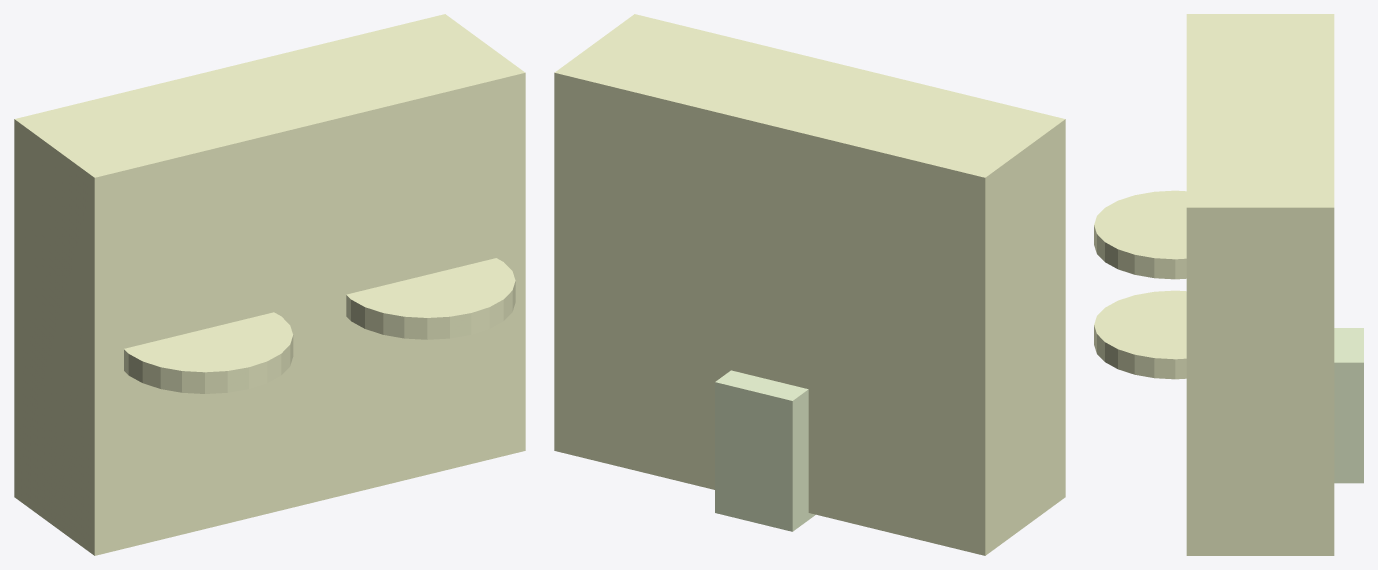
File: signal_warning_dual_amber_box.glb
The picture shows the model from 3 angles, left to right: view 1: azimuth 30°, elevation 25°; view 2: azimuth 150°, elevation 25°; view 3: azimuth 270°, elevation 25°; orthographic projection. The views are drawn at different scales.
Parts seen in each view (by area): view 1: housing, lens_warning_left, lens_warning_right; view 2: housing, bracket; view 3: housing, lens_warning_left, lens_warning_right, bracket.
Boxes of the visible parts, x1,y1,x2,y2 form: housing: (14, 14, 525, 555); lens_warning_left: (124, 312, 293, 393); lens_warning_right: (346, 258, 515, 339); housing: (554, 14, 1065, 555); bracket: (715, 370, 815, 531); housing: (1186, 14, 1334, 555); lens_warning_left: (1094, 190, 1186, 279); lens_warning_right: (1094, 290, 1186, 379); bracket: (1334, 328, 1363, 483).
Bounding box in the file's own units: 0.62 × 0.53 × 0.365.
